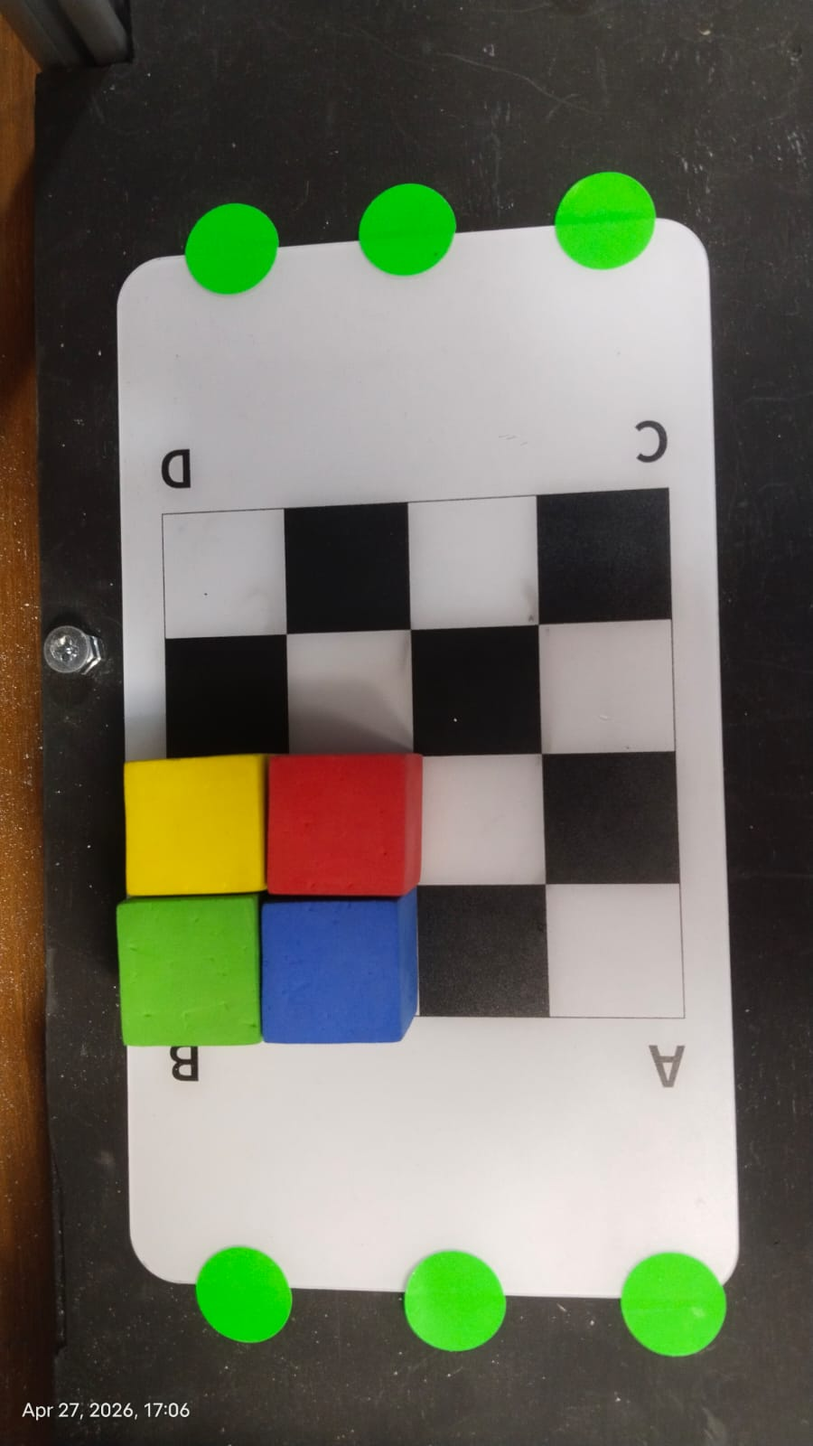blue: (257, 883, 425, 1046)
green: (111, 890, 268, 1053)
red: (261, 751, 428, 898)
yellow: (113, 749, 271, 898)
